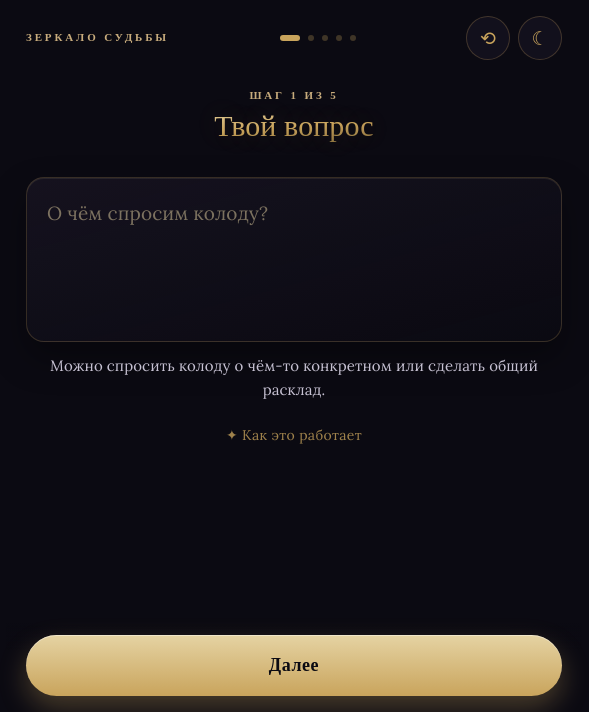
Test: HOME-01/02/D-13: an empty question shows no error and a 1–9-char question shows the gentle too-short hint
expect the text "Можно спросить колоду о чём-то конкретном или сделать общий расклад." is shown: met, box [26, 354, 562, 402]
expect the text "Попробуй сказать чуть подробнее — так колода услышит точнее." is not shown: met
Type "люб" into the text box with placeholder "О чём спросим колоду?" at (294, 260), box [26, 177, 562, 342]
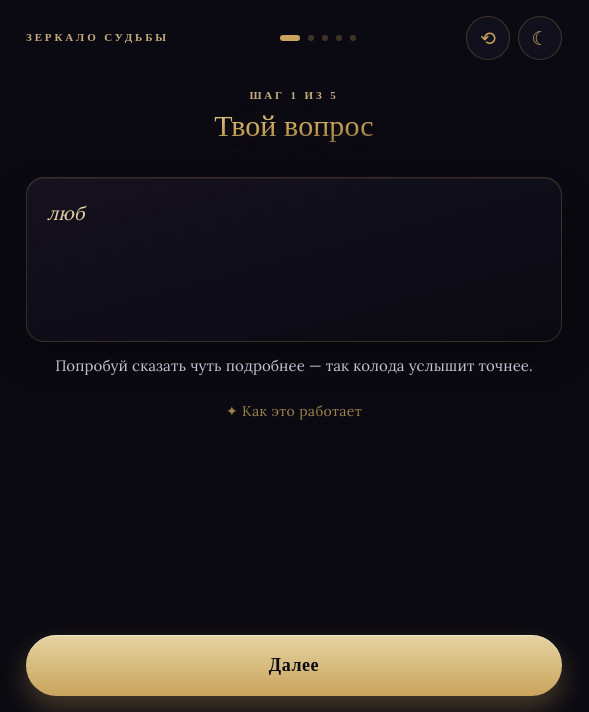
expect the text "Попробуй сказать чуть подробнее — так колода услышит точнее." is shown: met, box [26, 354, 562, 378]
expect the text "Можно спросить колоду о чём-то конкретном или сделать общий расклад." is gone: met
Replace the text in the text box with placeholder "О чём спросим колоду?" with "люблю ли я его на самом деле?" at (294, 260), box [26, 177, 562, 342]
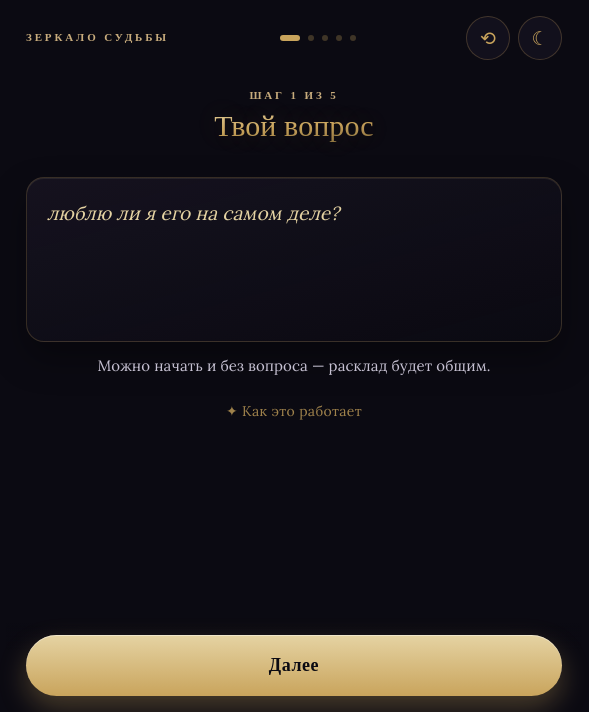
expect the text "Можно спросить колоду о чём-то конкретном или сделать общий расклад." is not shown: met
expect the text "Попробуй сказать чуть подробнее — так колода услышит точнее." is gone: met
